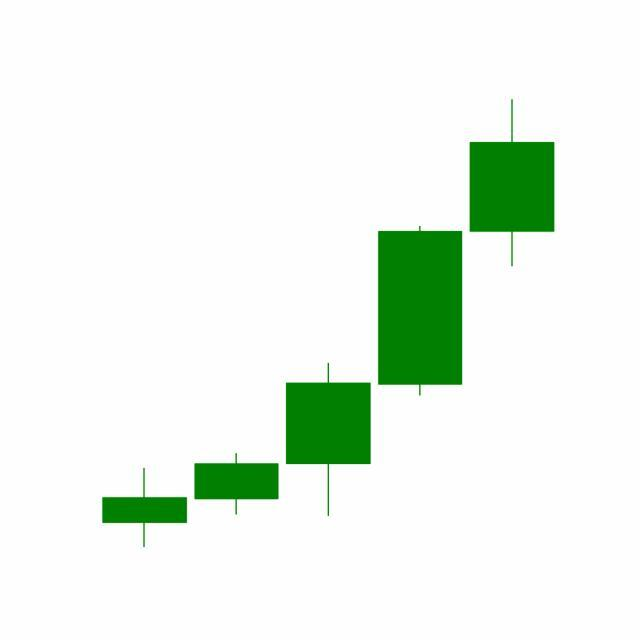Advance Block: (280, 100, 555, 522)
